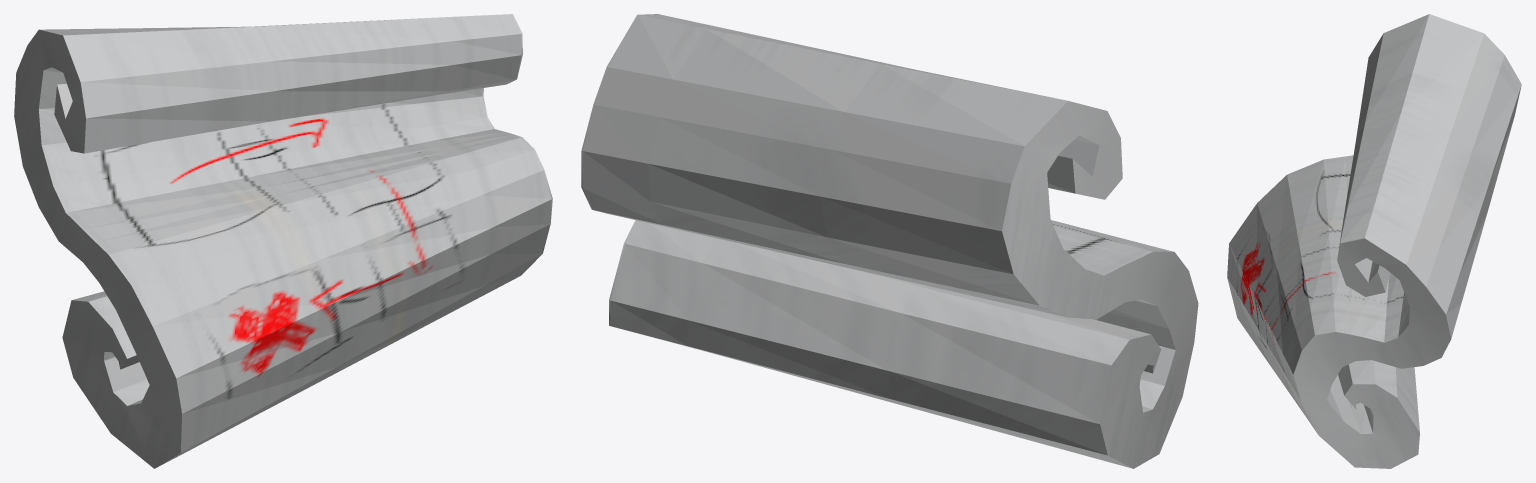
Rendered from Scroll.FBX.
3 views of the same model, side by side, from view 1: azimuth 30°, elevation 25°; view 2: azimuth 150°, elevation 25°; view 3: azimuth 270°, elevation 25° (orthographic). The views are drawn at different scales.
Parts seen in each view (by area): view 1: Line001; view 2: Line001; view 3: Line001.
Boxes of the visible parts, x1,y1,x2,y2 form: Line001: (14,14,552,468); Line001: (581,14,1198,468); Line001: (1227,14,1521,468).
Size of the model in its own units: 109 by 89.84 by 72.98.
1 material, 1 textured.
